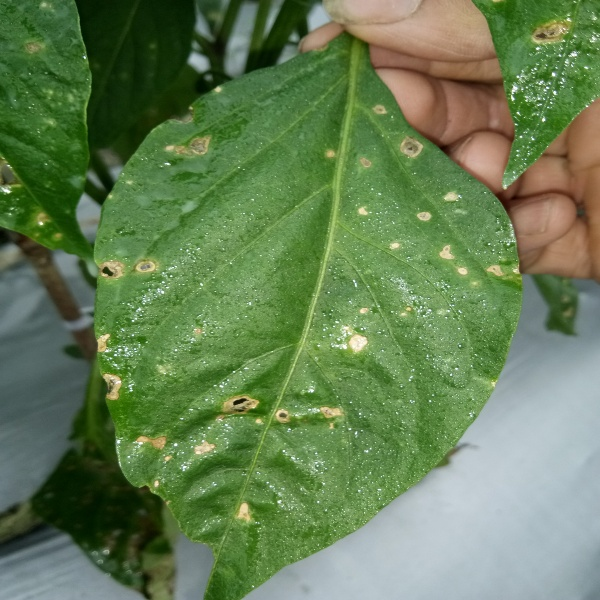Anthrax: (96, 254, 369, 525), (328, 102, 522, 291), (162, 104, 213, 165), (531, 15, 569, 44)
